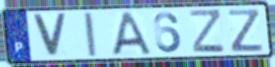6: (153, 11, 183, 55)
A: (111, 10, 153, 57)
I: (82, 11, 98, 59)
V: (30, 13, 69, 59)
Z: (188, 8, 226, 55), (227, 8, 265, 53)
